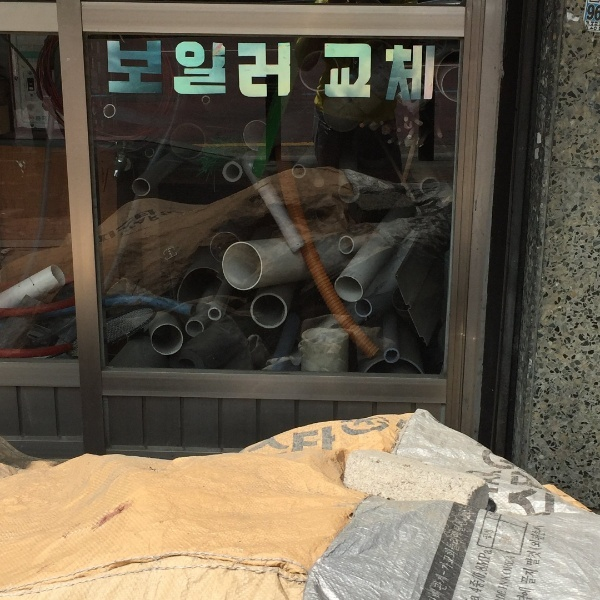text: (449, 504, 464, 600), (481, 444, 496, 526), (497, 444, 512, 526), (513, 444, 528, 526), (529, 444, 544, 526), (545, 444, 560, 526), (465, 504, 477, 600), (113, 38, 128, 101), (129, 38, 144, 101), (145, 38, 160, 101), (161, 38, 176, 101), (177, 38, 192, 101), (193, 38, 208, 101), (209, 38, 224, 101), (225, 38, 240, 101), (241, 38, 256, 101), (257, 38, 272, 101), (273, 38, 288, 101), (337, 41, 352, 104), (353, 41, 368, 104), (369, 41, 384, 104), (385, 41, 400, 104), (401, 41, 416, 104), (417, 41, 432, 104), (257, 412, 272, 470), (273, 412, 288, 470), (289, 412, 304, 470), (305, 412, 320, 470), (321, 412, 336, 470), (337, 412, 352, 470), (353, 412, 368, 470), (369, 412, 384, 470), (323, 41, 336, 104), (533, 526, 544, 600), (113, 201, 128, 248), (129, 201, 144, 248), (145, 201, 160, 248), (161, 201, 176, 248), (98, 201, 112, 248), (472, 444, 480, 526), (481, 549, 493, 600), (248, 412, 256, 470), (444, 504, 448, 600), (106, 38, 112, 101), (385, 412, 391, 470), (474, 549, 480, 600), (506, 556, 512, 600), (433, 41, 437, 104), (177, 201, 182, 248), (289, 38, 292, 101), (484, 529, 496, 542), (513, 556, 516, 600), (561, 444, 562, 526), (545, 526, 546, 600)
